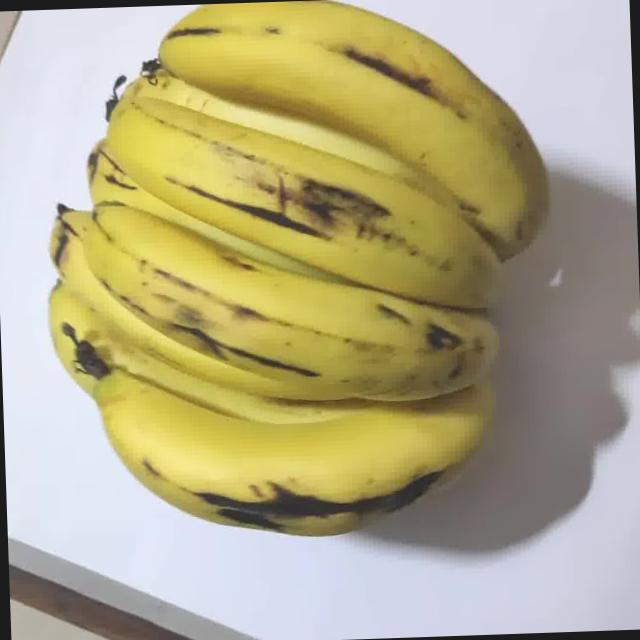banana_pacche: (18, 0, 638, 610)
